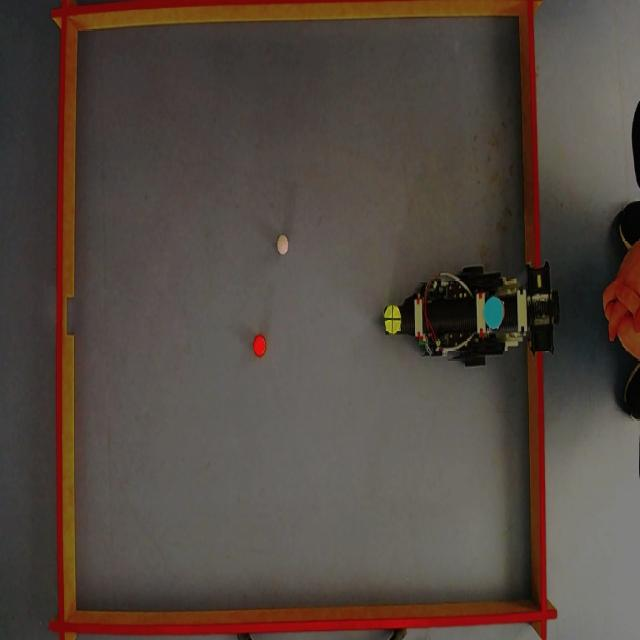orange: (253, 334, 267, 357)
robot: (392, 262, 558, 368)
robot-front: (383, 303, 402, 337)
robot-rear: (484, 292, 505, 330)
white: (276, 236, 289, 254)
